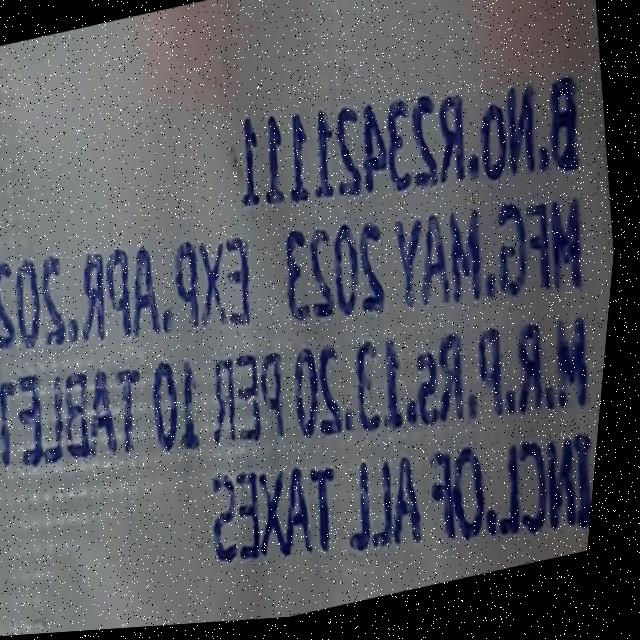sentence: (0, 187, 587, 354), (0, 324, 597, 473), (222, 441, 602, 568), (245, 84, 582, 210)
